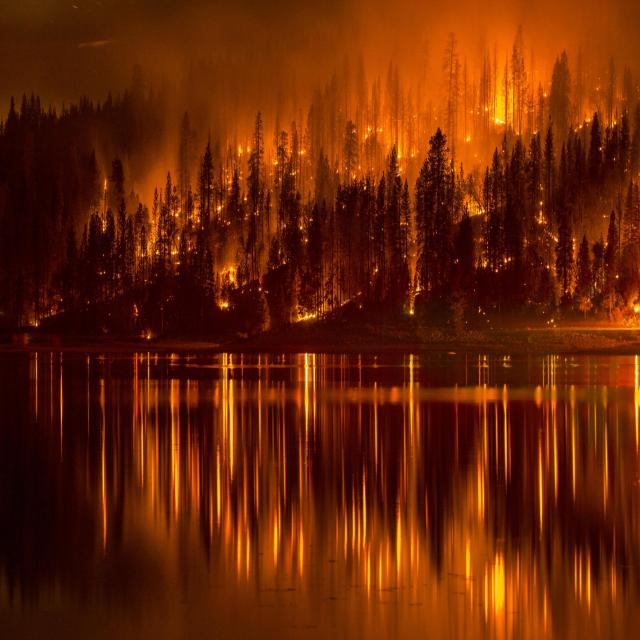Fire: (12, 93, 640, 333)
Smoke: (93, 0, 640, 171)
